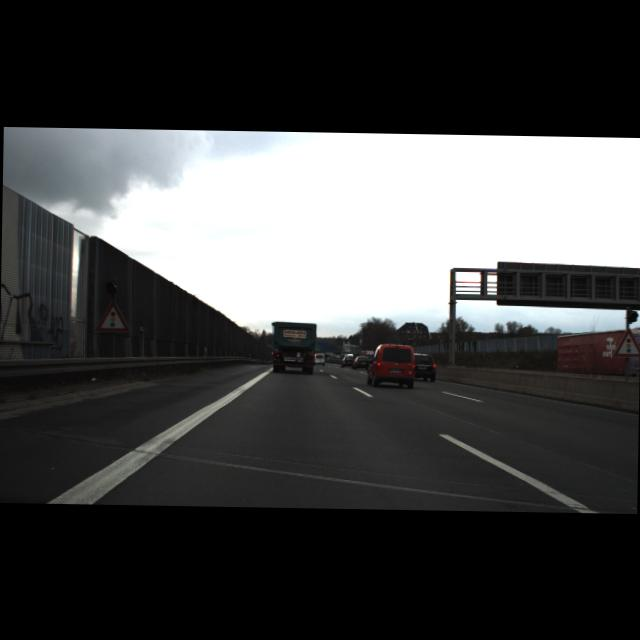danger: (95, 299, 132, 332), (612, 326, 640, 356)
